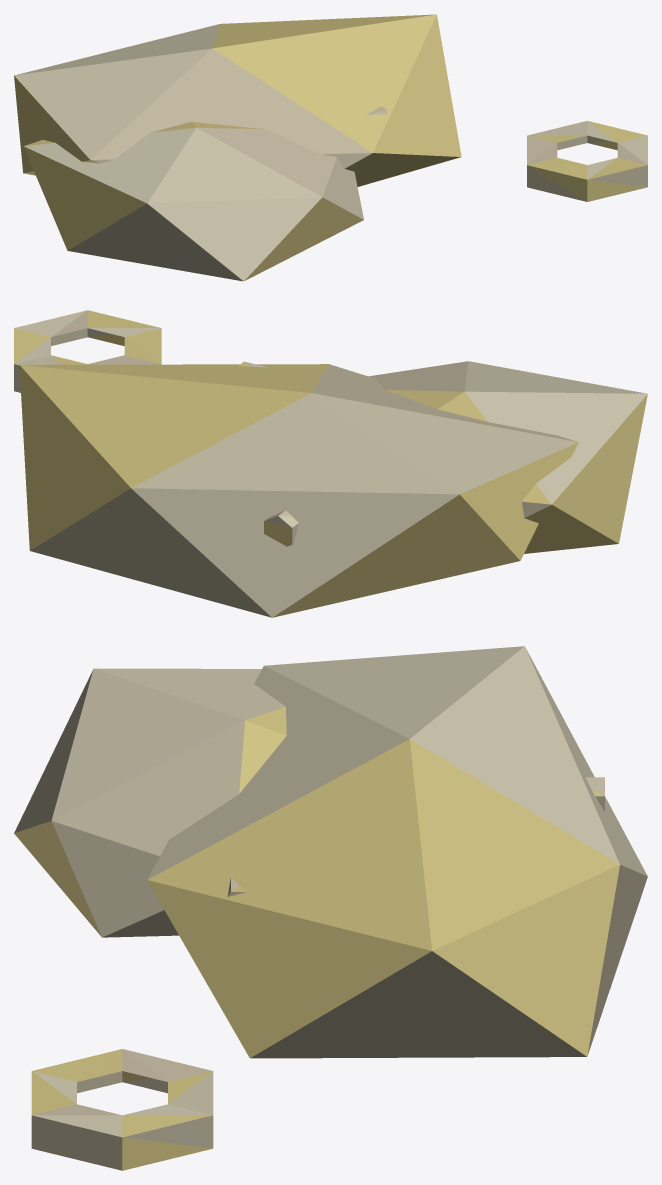
The model's file is fishing-net-pile-00.glb.
3 views of the same model, one above another, from view 1: azimuth 30°, elevation 25°; view 2: azimuth 150°, elevation 25°; view 3: azimuth 270°, elevation 25° (orthographic). The views are drawn at different scales.
Visible parts, largest first — view 1: fishing_net_pile_00; view 2: fishing_net_pile_00; view 3: fishing_net_pile_00.
Boxes of the visible parts, box(x1,y1,x2,y2) form: fishing_net_pile_00: box(14, 14, 647, 281); fishing_net_pile_00: box(14, 310, 647, 617); fishing_net_pile_00: box(14, 646, 647, 1170).
Size of the model in its own units: 2.03 by 0.604 by 1.38.
